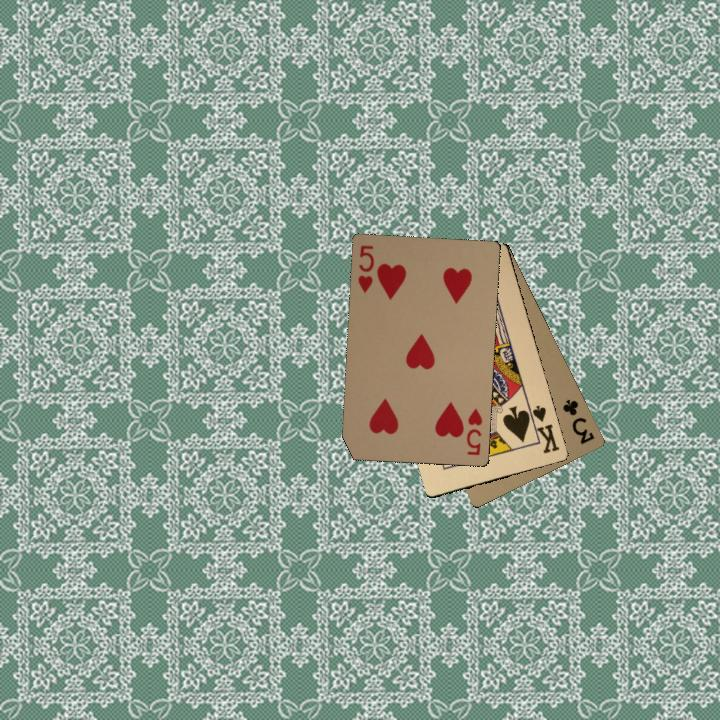3c: (558, 395, 597, 447)
5h: (354, 241, 377, 296), (462, 404, 485, 458)
Ks: (524, 402, 562, 456)
